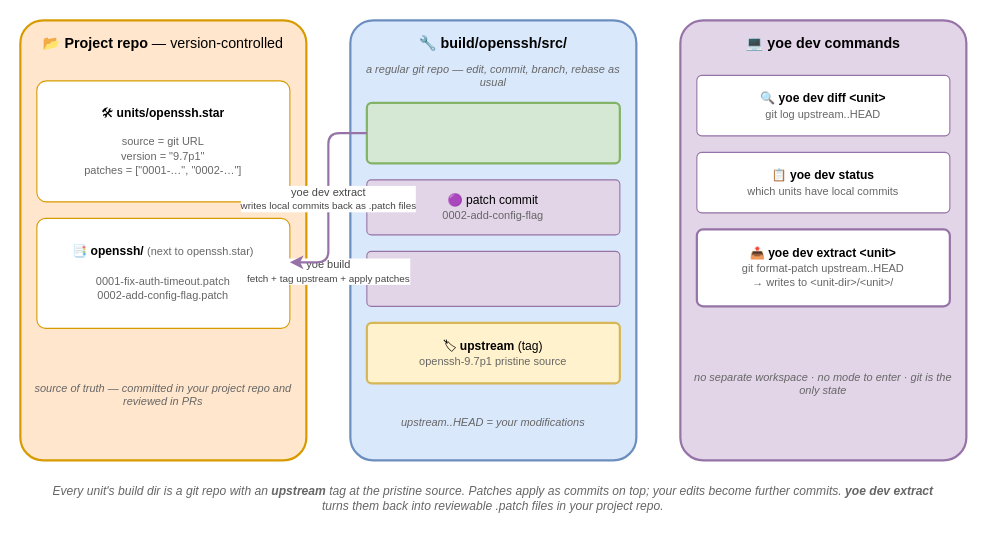
Image size: 986x539. Some labels were removed from this diagram. Each missing label, with the box of its shape:
🟢 HEAD — your local commit "fix auth timeout handling": (365, 101, 620, 164)
🟣 patch commit 0001-fix-auth-timeout: (366, 250, 620, 306)
